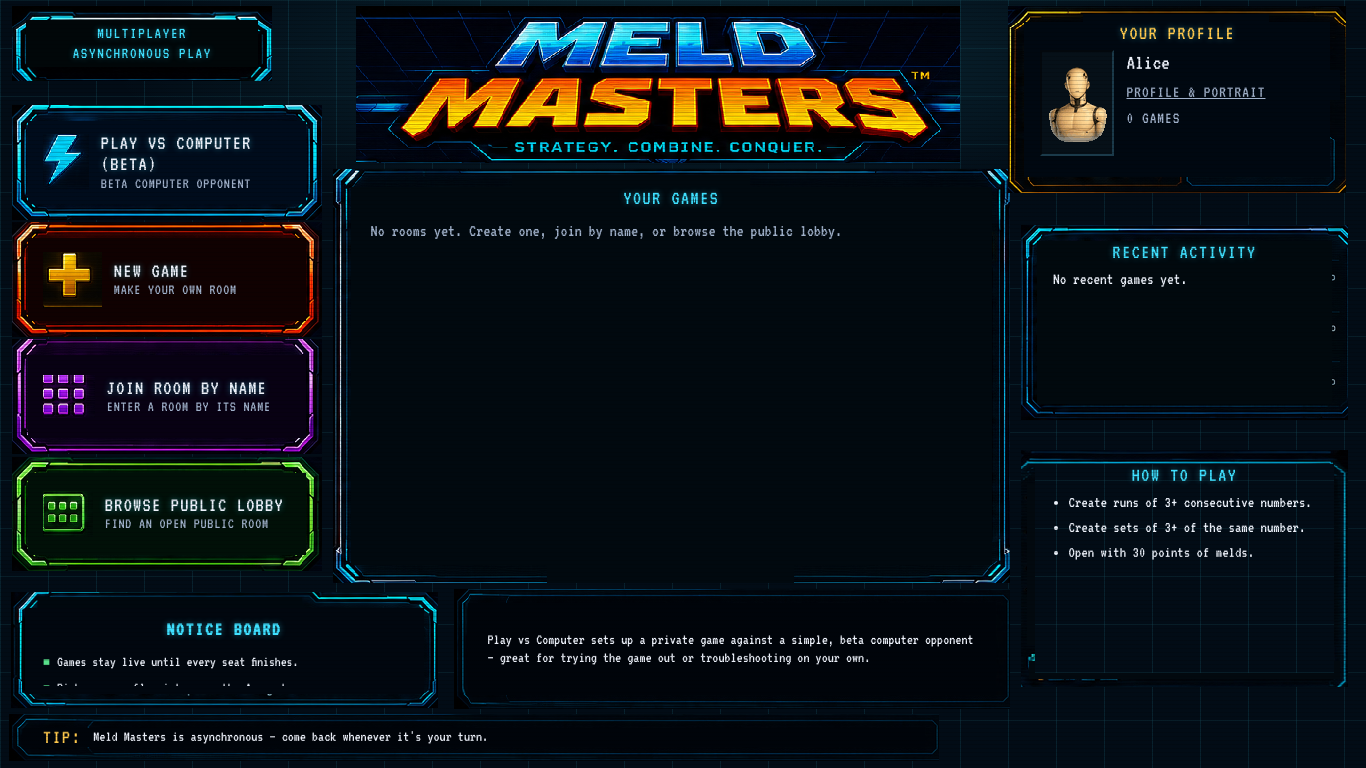
HomePage -- Play vs Computer › surfaces an error and does not navigate when creation fails
Click the button "Play vs Computer (beta) Beta computer opponent": (66, 162) [12,105,322,220]
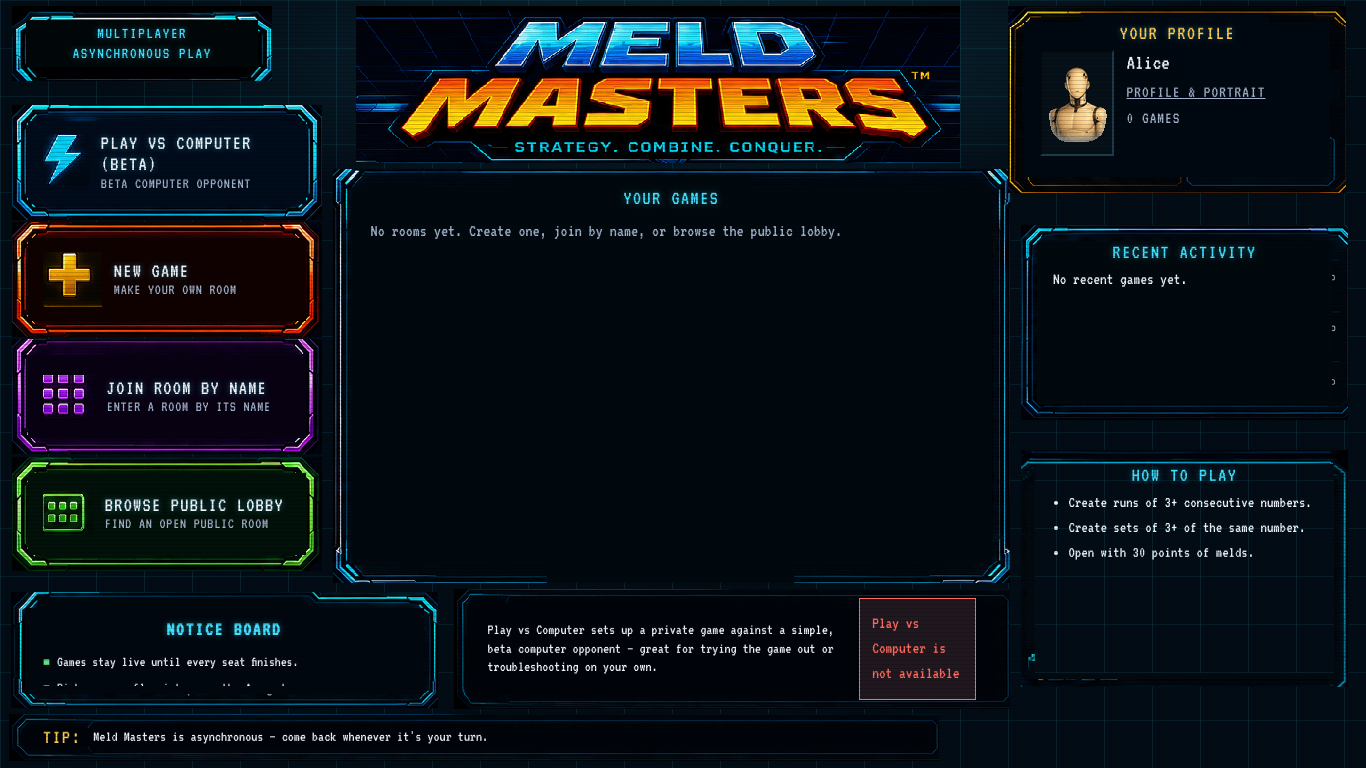
Result: the message "Play vs Computer is not available" is shown at [859,598,976,700]
